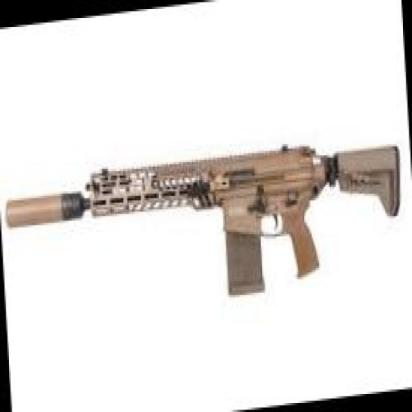Gun: (6, 137, 403, 296)
